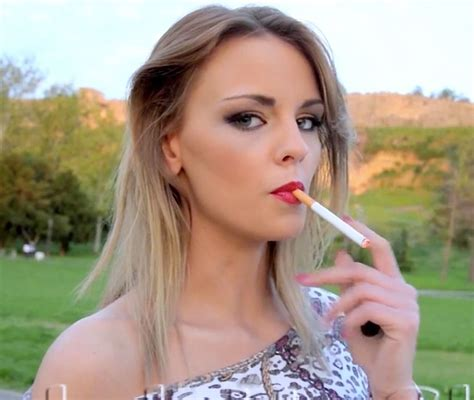cigarette: (292, 186, 373, 248)
